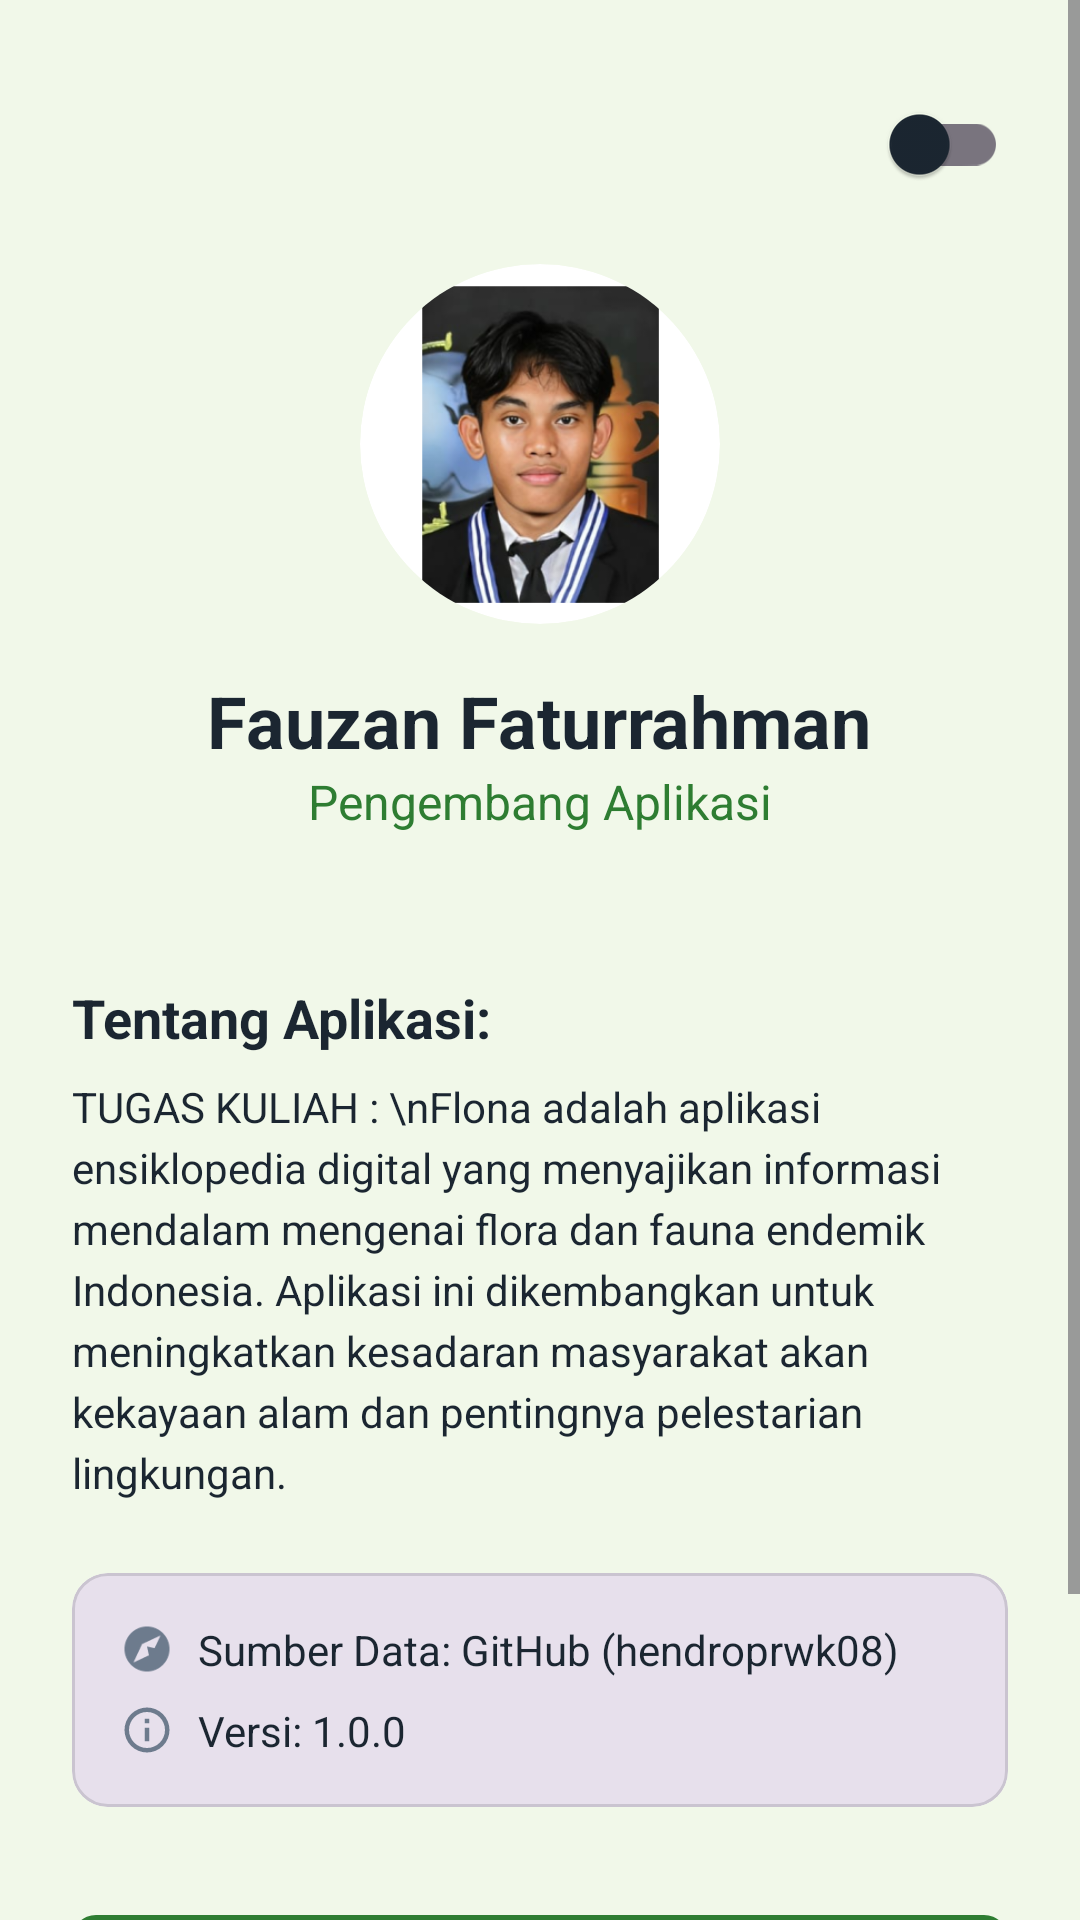

Where to tap for icons on this 1080*1920 app screen, as (x,y):
Data Source: (147,1649)
Profile Photo: (540,444)
Version: (147,1730)
